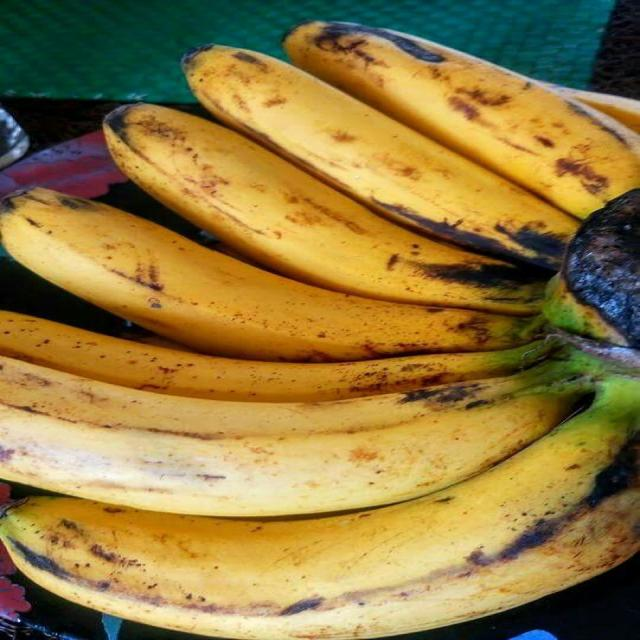unpeal banana: (0, 377, 639, 639), (0, 357, 591, 516), (0, 188, 542, 361), (105, 104, 542, 314), (184, 46, 577, 267), (285, 22, 639, 217), (0, 311, 549, 401), (544, 189, 639, 349), (548, 85, 639, 133)
